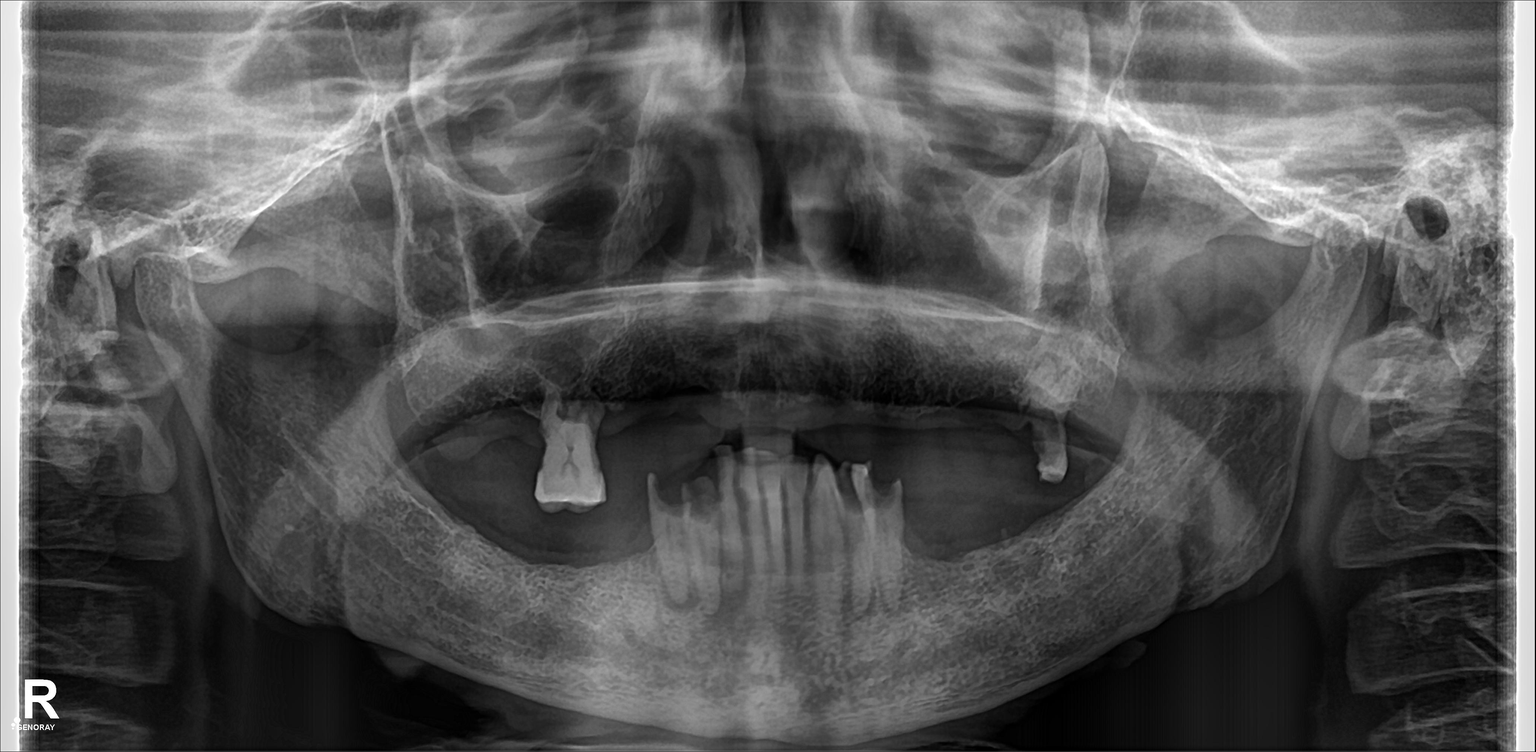Dental Caries: (832, 462, 898, 505), (654, 477, 712, 517), (1039, 413, 1067, 471)
Missing Tooth: (639, 370, 699, 453), (441, 486, 484, 590), (968, 473, 1015, 567), (460, 374, 502, 475), (499, 374, 544, 468), (860, 352, 906, 442), (600, 376, 644, 466), (1035, 486, 1080, 573), (723, 369, 785, 432), (795, 359, 846, 435), (980, 356, 1025, 442), (412, 372, 450, 469), (559, 523, 597, 614), (497, 493, 536, 581), (1082, 382, 1117, 475), (618, 516, 653, 602), (929, 490, 959, 587), (924, 352, 956, 432)
